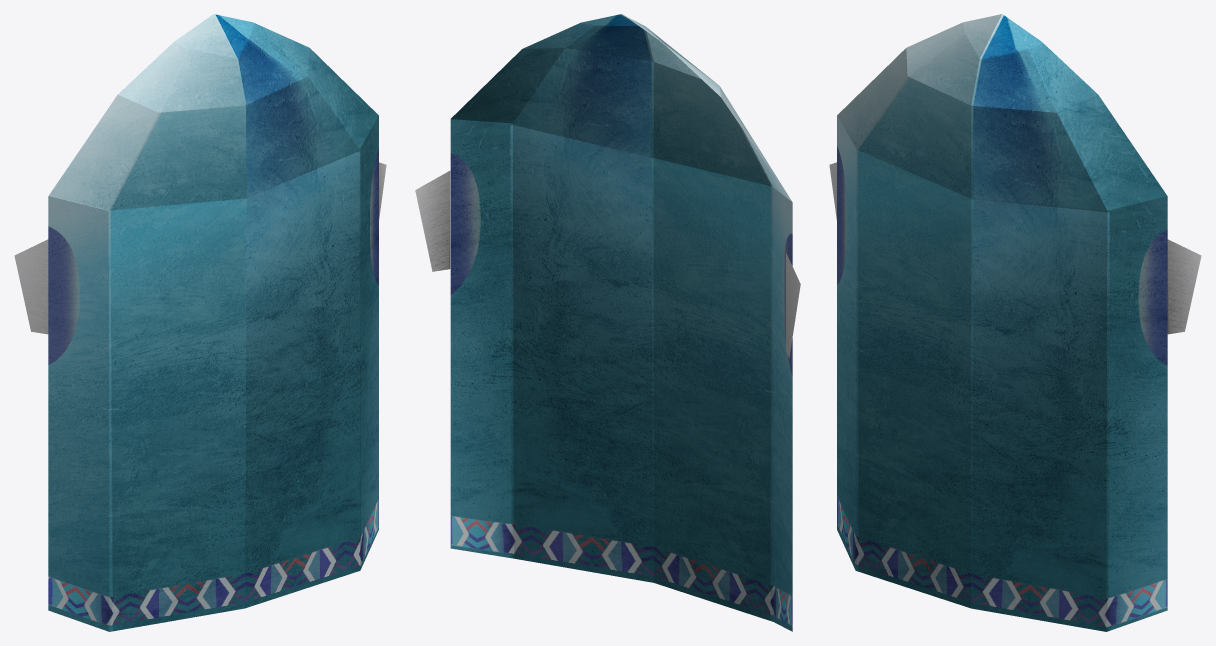
File: smell_2.obj
The picture shows the model from 3 angles, left to right: view 1: azimuth 30°, elevation 25°; view 2: azimuth 150°, elevation 25°; view 3: azimuth 330°, elevation 25°; orthographic projection. The views are drawn at different scales.
Visible parts, largest first — view 1: head, side_R; view 2: head, side_L, side_R; view 3: head, side_L.
Boxes of the visible parts, x1=… form: head: x1=48, y1=14, x2=378, y2=631; side_R: x1=14, y1=239, x2=48, y2=334; head: x1=450, y1=14, x2=792, y2=631; side_L: x1=415, y1=171, x2=450, y2=271; side_R: x1=786, y1=252, x2=800, y2=358; head: x1=837, y1=14, x2=1167, y2=631; side_L: x1=1167, y1=239, x2=1201, y2=334.
Bounding box in the file's own units: 226 × 332 × 46.53.
1 material, 1 textured.
